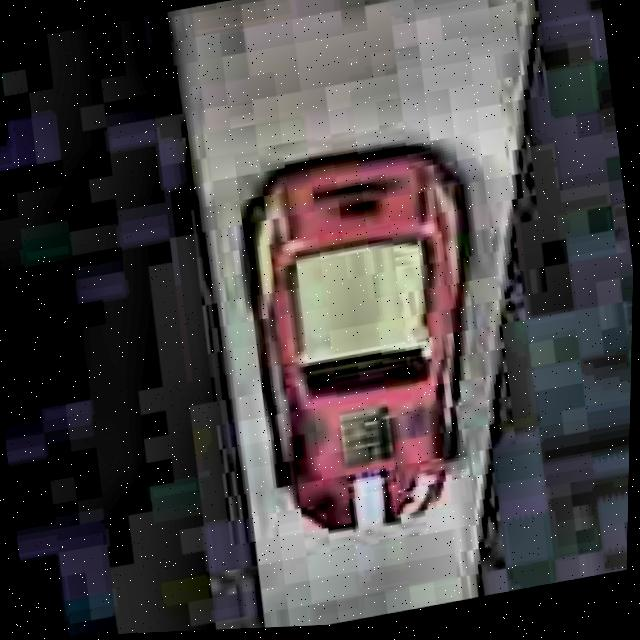car: (224, 120, 514, 550)
